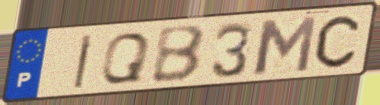3: (212, 20, 252, 80)
B: (150, 23, 208, 85)
C: (313, 13, 362, 70)
I: (71, 32, 96, 91)
M: (252, 14, 319, 77)
Q: (97, 31, 153, 86)
